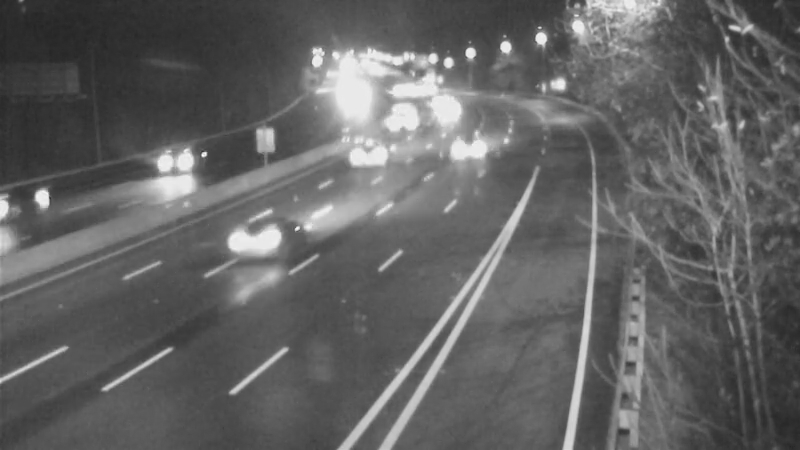vehicle: (327, 117, 407, 197), (224, 205, 304, 285), (128, 128, 208, 208), (1, 165, 69, 245), (396, 66, 446, 116), (370, 62, 420, 112), (411, 78, 461, 128), (422, 84, 472, 134), (378, 90, 428, 140), (441, 118, 491, 168)
